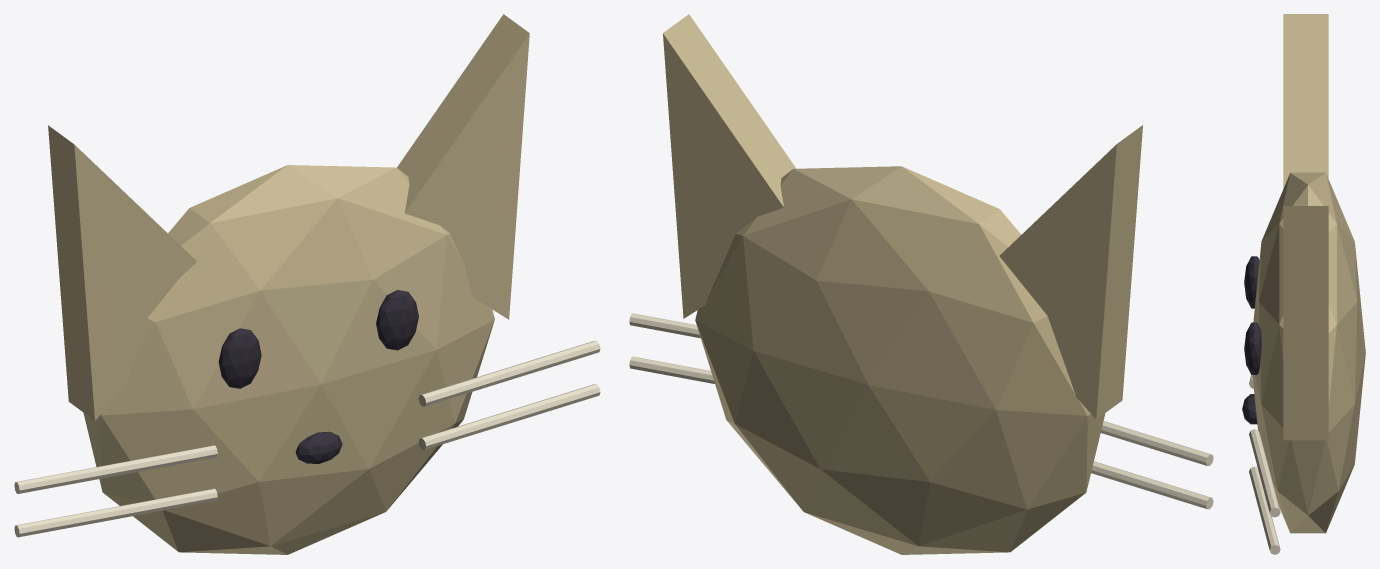
File: book-look.glb
3 renders of one model, left to right at view 1: azimuth 30°, elevation 25°; view 2: azimuth 150°, elevation 25°; view 3: azimuth 270°, elevation 25°, orthographic. The views are drawn at different scales.
Parts seen in each view (by area): view 1: Cat head.003, Whisker.006, Cat eye.003; view 2: Cat head.003, Whisker.006; view 3: Cat head.003, Whisker.006, Cat eye.003.
Boxes of the visible parts, <box> form: Cat head.003: <box>48,14,529,554</box>; Whisker.006: <box>14,340,600,537</box>; Cat eye.003: <box>218,290,418,463</box>; Cat head.003: <box>663,14,1142,554</box>; Whisker.006: <box>629,313,1213,509</box>; Cat head.003: <box>1252,14,1365,533</box>; Whisker.006: <box>1249,374,1280,554</box>; Cat eye.003: <box>1242,256,1261,424</box>.
Size of the model in its own units: 0.0281 by 0.022 by 0.006.
